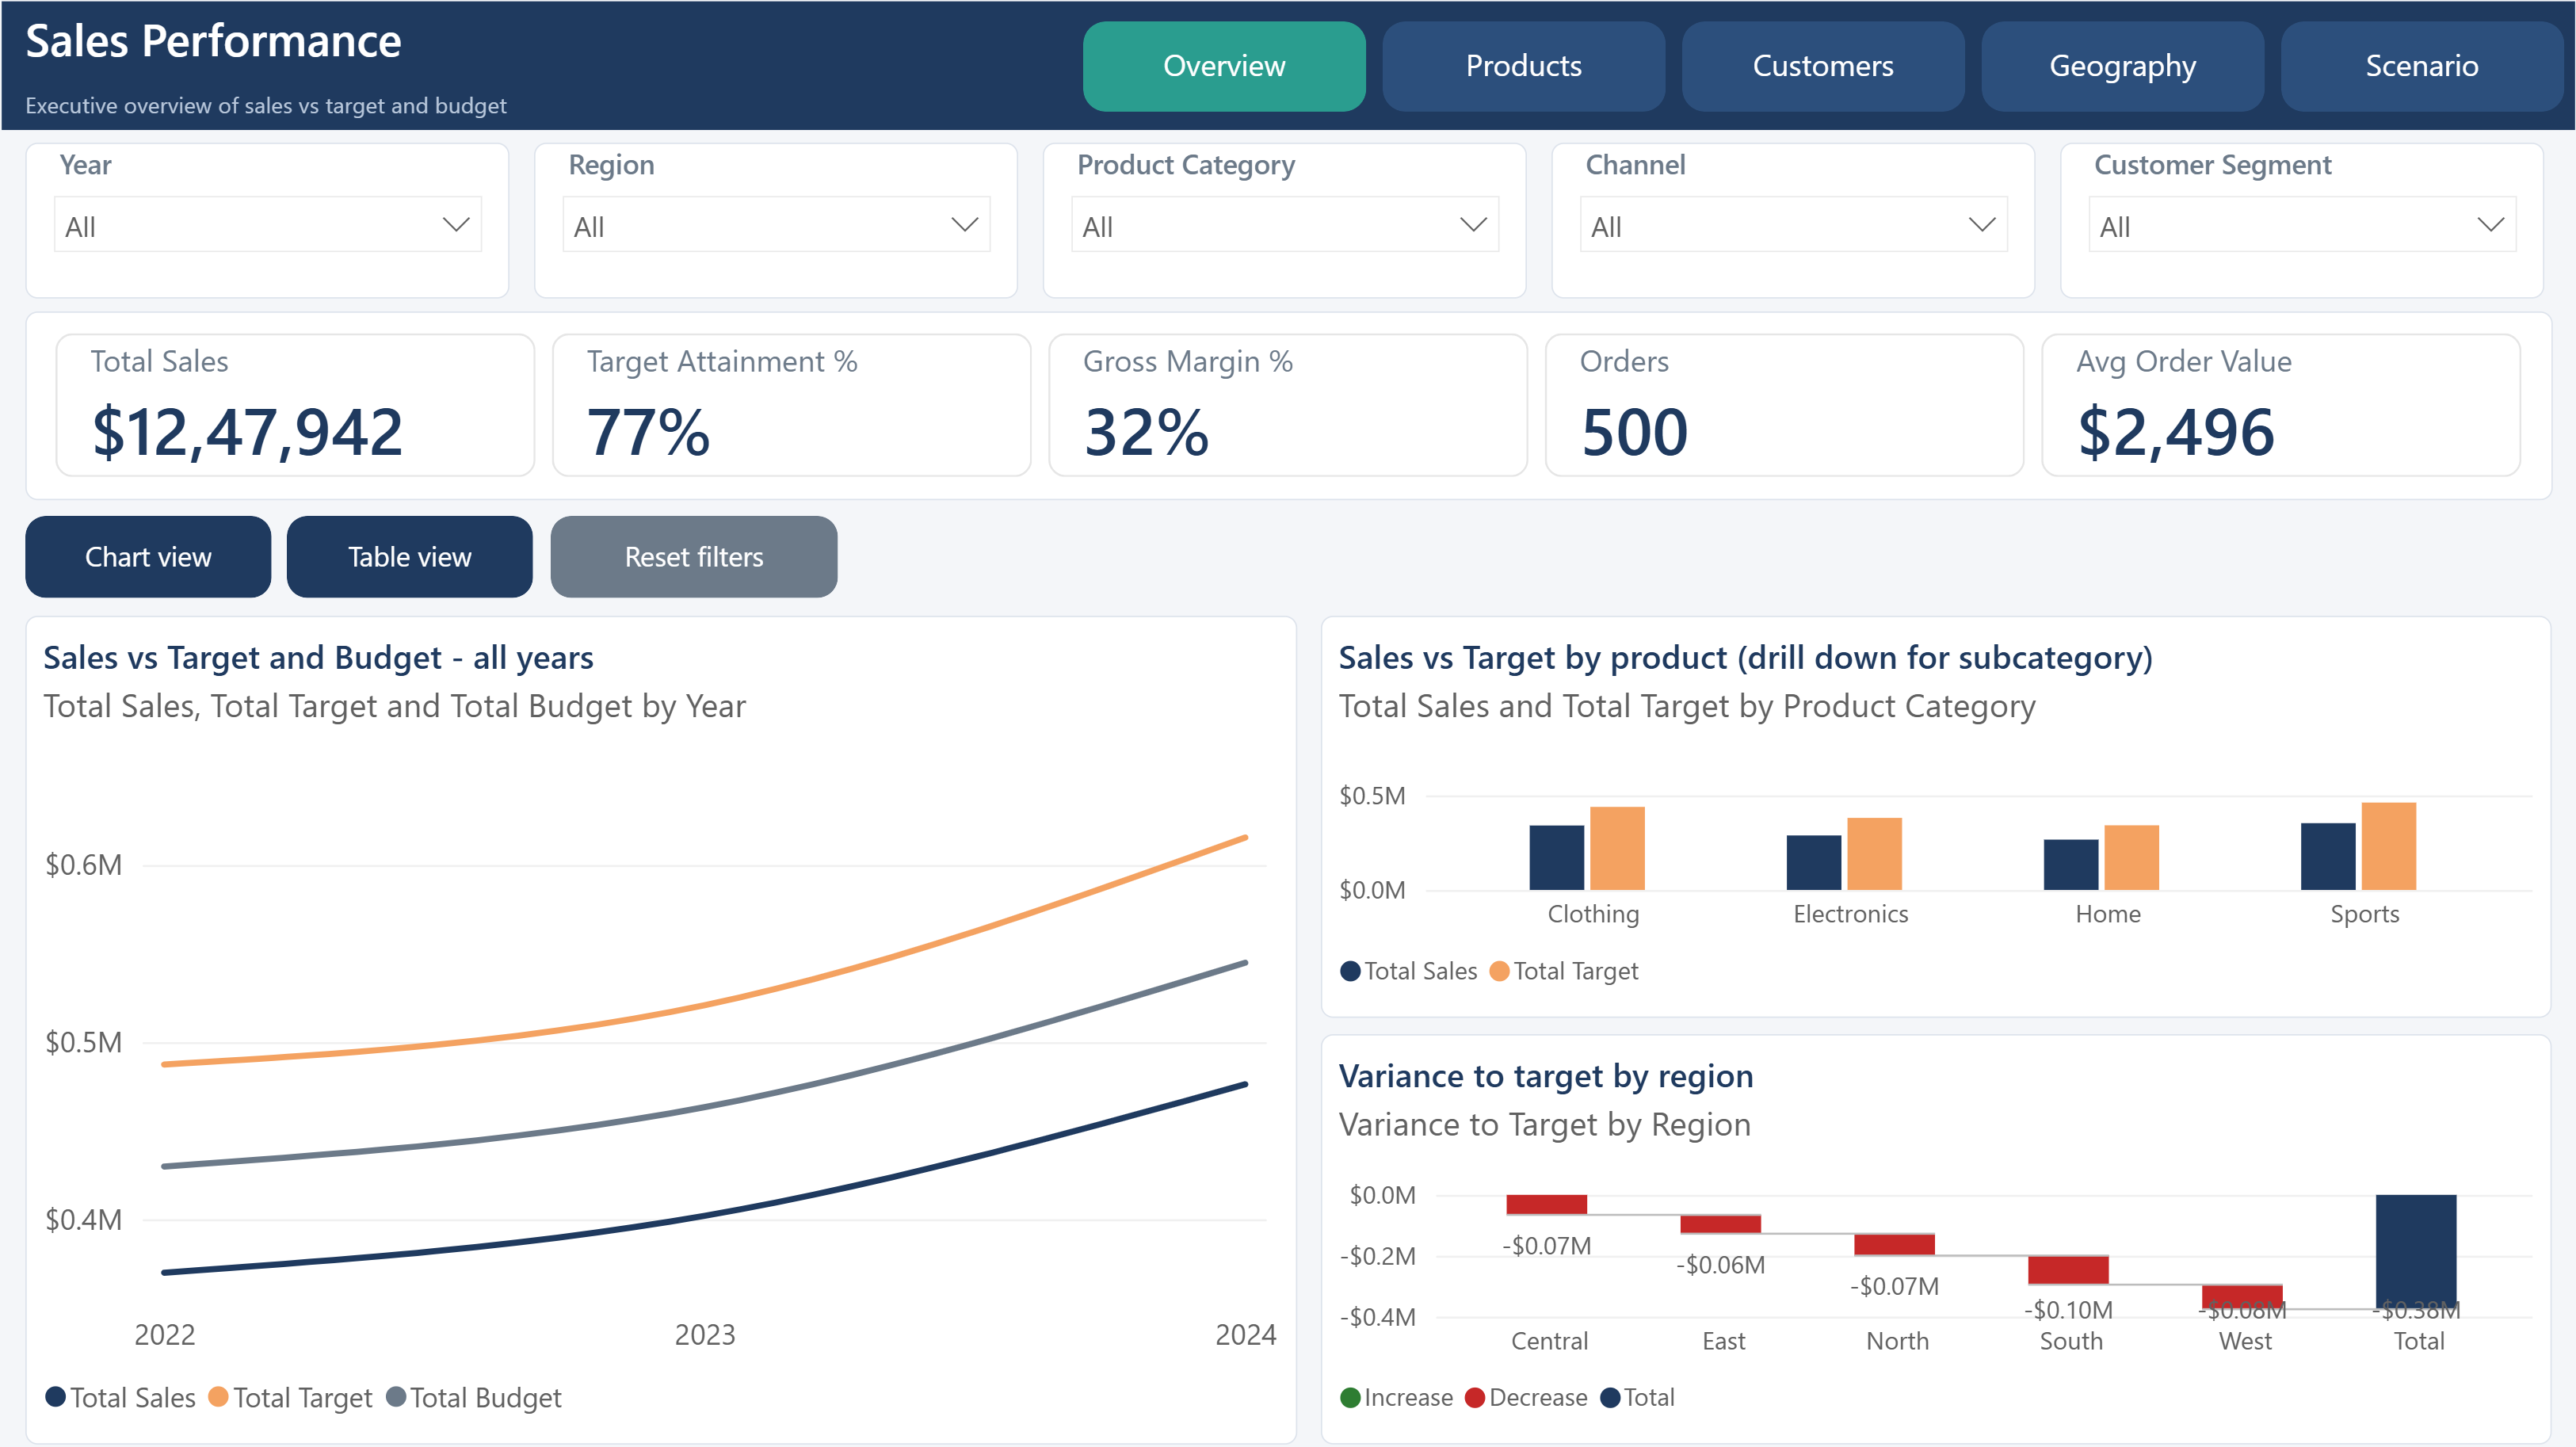

This screenshot's page, from the dashboard's own definition file:
{"tool":"powerbi","page":{"name":"Sales Overview","canvas":[1280,720],"ordinal":0},"visuals":[{"type":"basicShape","box":[0,0,1280,64],"z":1010},{"type":"textbox","box":[24,4,470,36],"z":1020},{"type":"textbox","box":[24,40,470,22],"z":1030},{"type":"actionButton","box":[540,10,138,44],"z":1040},{"type":"actionButton","box":[686,10,138,44],"z":1050},{"type":"actionButton","box":[832,10,138,44],"z":1060},{"type":"actionButton","box":[978,10,138,44],"z":1070},{"type":"actionButton","box":[1124,10,138,44],"z":1080},{"type":"slicer","fields":{"Values":["Date.Year"]},"box":[24,70,236,76],"z":1090},{"type":"slicer","fields":{"Values":["Sales.Region"]},"box":[272,70,236,76],"z":1100},{"type":"slicer","fields":{"Values":["Sales.Product Category"]},"box":[520,70,236,76],"z":1110},{"type":"slicer","fields":{"Values":["Sales.Channel"]},"box":[768,70,236,76],"z":1120},{"type":"slicer","fields":{"Values":["Sales.Customer Segment"]},"box":[1016,70,236,76],"z":1130},{"type":"cardVisual","fields":{"Data":["Sales.Total Sales","Sales.Target Attainment %","Sales.Gross Margin %","Sales.Orders","Sales.Avg Order Value"]},"box":[24,152,1232,92],"z":1140},{"type":"lineChart","fields":{"Category":["Date.Date Hierarchy.Year","Date.Date Hierarchy.Quarter","Date.Date Hierarchy.Month"],"Y":["Sales.Total Sales","Sales.Total Target","Sales.Total Budget"]},"box":[24,300,620,404],"z":1150},{"type":"clusteredColumnChart","title":"Sales vs Target by product (drill down for subcategory)","fields":{"Category":["Sales.Product Hierarchy.Product Category","Sales.Product Hierarchy.Product Subcategory"],"Y":["Sales.Total Sales","Sales.Total Target"]},"box":[656,300,600,196],"z":1170},{"type":"waterfallChart","title":"Variance to target by region","fields":{"Category":["Sales.Region"],"Y":["Sales.Variance to Target"]},"box":[656,504,600,200],"z":1180},{"type":"actionButton","box":[24,252,120,40],"z":1190},{"type":"actionButton","box":[152,252,120,40],"z":1200},{"type":"actionButton","box":[280,252,140,40],"z":1210}]}

Visuals, with their boxes in screenshot pixels (x1, y1, x2, y2), scaled from the page's 1280x720 canvas onto the 2576x1447 screenshot:
basicShape: bbox(0, 0, 2575, 128)
textbox: bbox(48, 8, 994, 80)
textbox: bbox(48, 80, 994, 124)
actionButton: bbox(1087, 20, 1364, 109)
actionButton: bbox(1380, 20, 1658, 109)
actionButton: bbox(1674, 20, 1952, 109)
actionButton: bbox(1968, 20, 2246, 109)
actionButton: bbox(2262, 20, 2540, 109)
slicer - Date.Year: bbox(48, 141, 523, 293)
slicer - Sales.Region: bbox(548, 141, 1022, 293)
slicer - Sales.Product Category: bbox(1047, 141, 1521, 293)
slicer - Sales.Channel: bbox(1546, 141, 2021, 293)
slicer - Sales.Customer Segment: bbox(2044, 141, 2520, 293)
cardVisual - Sales.Total Sales x Sales.Target Attainment %: bbox(48, 305, 2528, 491)
lineChart - Date.Date Hierarchy.Year x Date.Date Hierarchy.Quarter: bbox(48, 603, 1296, 1415)
"Sales vs Target by product (drill down for subcategory)" clusteredColumnChart: bbox(1320, 603, 2528, 997)
"Variance to target by region" waterfallChart: bbox(1320, 1013, 2528, 1415)
actionButton: bbox(48, 506, 290, 587)
actionButton: bbox(306, 506, 548, 587)
actionButton: bbox(563, 506, 845, 587)
